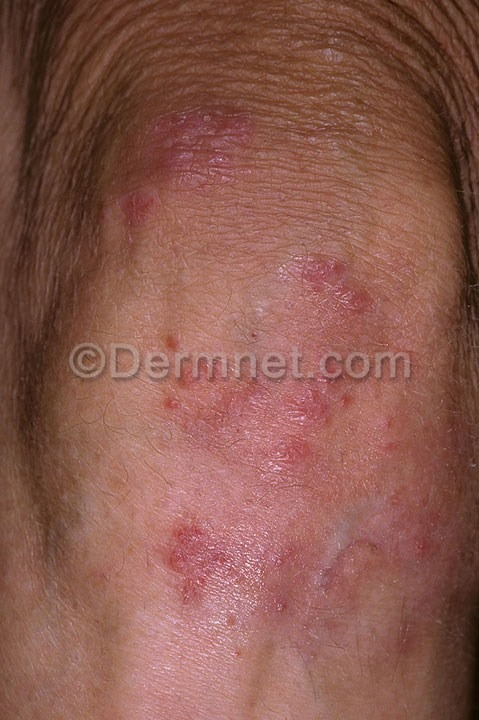Psoriasis: (166, 248, 411, 654), (101, 79, 291, 284)
